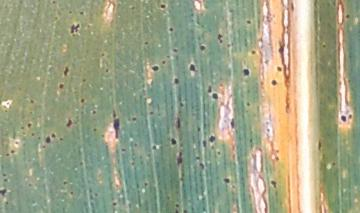tarspot: (112, 118, 120, 140), (70, 23, 80, 33), (177, 151, 183, 166), (188, 62, 196, 73), (242, 67, 250, 77), (208, 134, 216, 143), (230, 116, 235, 130), (216, 33, 223, 43), (63, 66, 69, 77), (1, 186, 7, 197), (289, 1, 295, 12), (198, 44, 206, 52), (275, 65, 283, 73), (44, 135, 51, 144), (151, 64, 160, 71), (201, 139, 208, 148), (270, 180, 277, 189), (176, 117, 181, 129), (317, 139, 322, 151), (212, 92, 219, 100), (270, 78, 277, 86), (223, 177, 231, 184), (66, 119, 72, 128), (111, 109, 117, 118), (171, 137, 177, 146), (172, 47, 179, 54), (340, 115, 347, 122), (262, 57, 269, 64), (174, 77, 180, 85), (199, 162, 205, 170), (207, 84, 212, 93), (58, 83, 64, 90), (131, 115, 137, 122), (52, 15, 59, 21), (50, 132, 56, 138), (143, 40, 149, 46), (168, 26, 174, 32), (120, 147, 126, 153), (216, 150, 222, 156), (196, 127, 202, 133), (345, 13, 351, 19), (265, 127, 271, 133), (274, 155, 280, 161), (143, 181, 149, 187), (111, 201, 117, 207), (62, 180, 68, 186), (160, 4, 167, 9), (194, 156, 201, 161), (245, 19, 252, 24), (348, 113, 353, 120), (27, 122, 32, 128), (81, 78, 87, 83), (5, 101, 11, 106), (92, 127, 98, 132), (100, 52, 106, 57), (165, 54, 171, 59), (179, 102, 185, 107), (133, 142, 139, 147), (152, 145, 157, 151), (226, 42, 231, 48), (251, 50, 257, 55), (322, 43, 327, 49), (174, 203, 180, 208), (331, 161, 336, 167), (30, 99, 35, 104), (79, 11, 84, 16), (30, 132, 35, 137), (80, 98, 85, 103), (79, 161, 84, 166), (71, 33, 76, 38), (100, 134, 105, 139), (130, 161, 135, 166), (248, 138, 253, 143), (246, 102, 251, 107), (275, 148, 280, 153), (94, 192, 99, 197), (5, 201, 10, 206), (2, 172, 7, 177), (27, 182, 32, 187), (51, 1, 57, 5), (67, 10, 73, 14), (37, 135, 41, 141), (91, 110, 97, 114), (130, 6, 136, 10), (162, 60, 166, 66), (149, 111, 155, 115), (348, 78, 352, 84), (59, 137, 64, 141), (11, 149, 15, 154), (6, 152, 10, 157), (14, 141, 19, 145), (20, 126, 25, 130), (4, 109, 9, 113), (105, 68, 109, 73), (190, 13, 195, 17), (183, 209, 188, 213), (175, 209, 180, 213), (69, 191, 74, 195), (3, 178, 8, 182), (42, 145, 46, 149)
